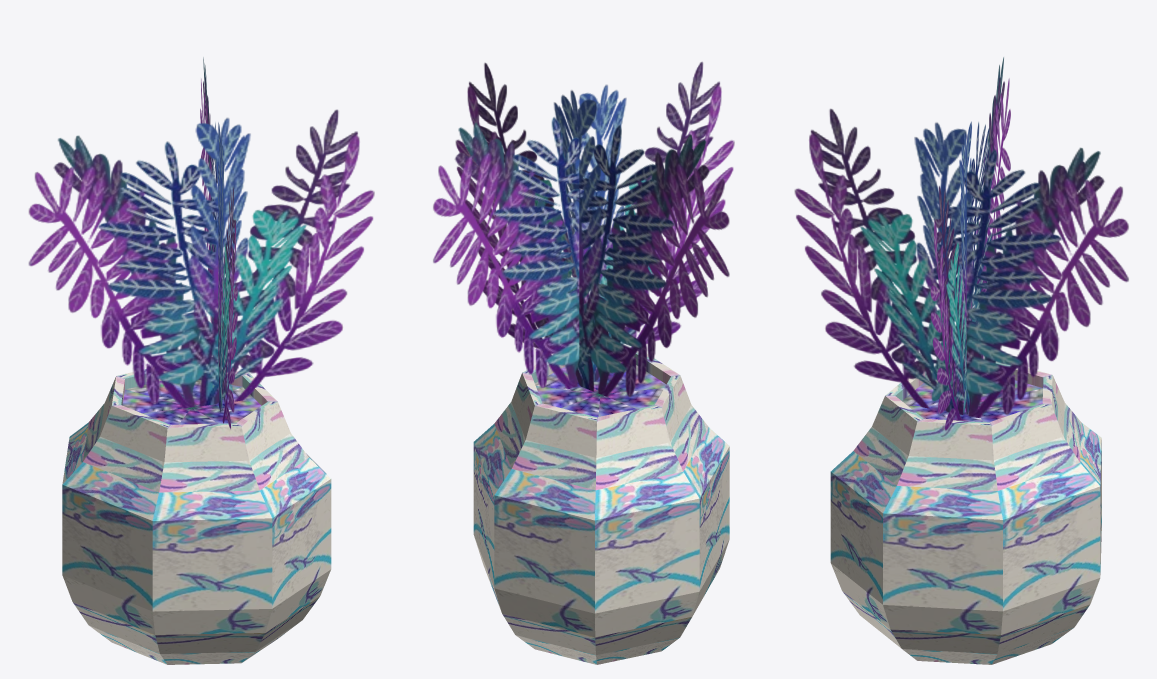
File: pot-retro-02.glb
3 views of the same model, side by side, from view 1: azimuth 30°, elevation 25°; view 2: azimuth 150°, elevation 25°; view 3: azimuth 270°, elevation 25° (orthographic). The views are drawn at different scales.
Visible parts, largest first — view 1: Pot_Retro_02; view 2: Pot_Retro_02; view 3: Pot_Retro_02.
Boxes of the visible parts, <box> form: Pot_Retro_02: <box>28,57,374,664</box>; Pot_Retro_02: <box>433,62,734,664</box>; Pot_Retro_02: <box>794,57,1128,664</box>.
Bounding box in the file's own units: 1.59 × 2.43 × 1.48.
3 materials, 3 textured.
